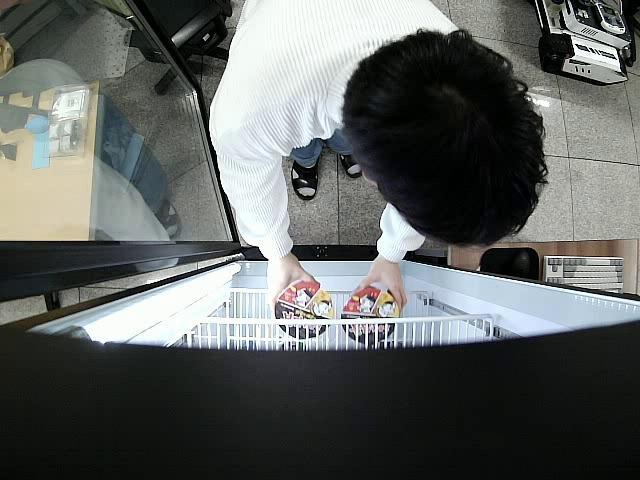07_buldak_L: (274, 281, 334, 340), (341, 287, 397, 343)
